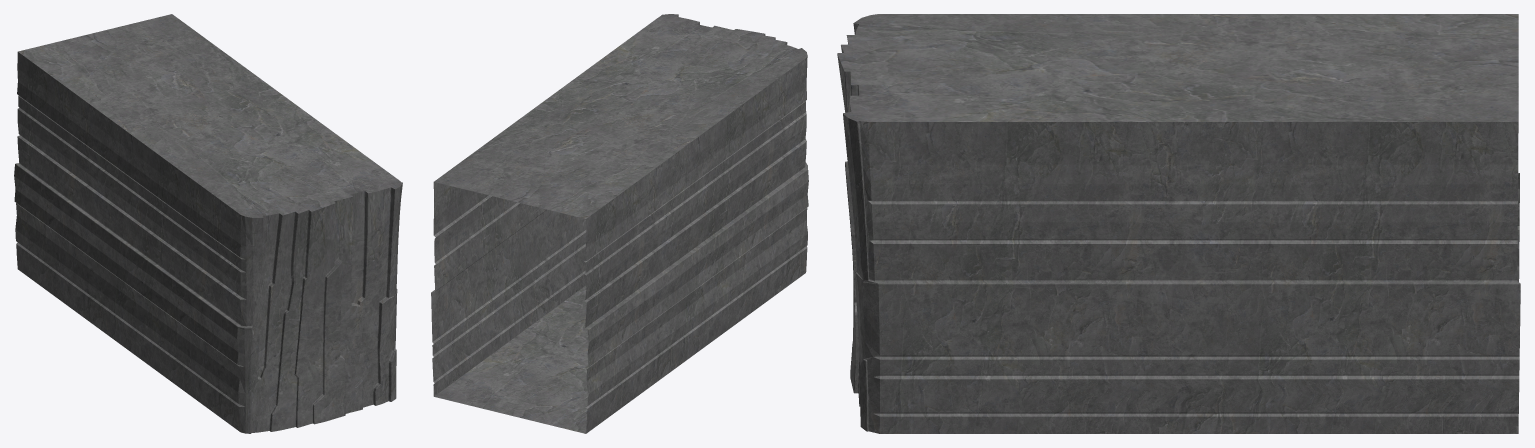
File: TrapWall.fbx
3 renders of one model, left to right at view 1: azimuth 30°, elevation 25°; view 2: azimuth 150°, elevation 25°; view 3: azimuth 270°, elevation 25°, orthographic. The views are drawn at different scales.
Visible parts, largest first — view 1: SM_ENV_NATURE_Cave_Wall_Trap_01.mo; view 2: SM_ENV_NATURE_Cave_Wall_Trap_01.mo; view 3: SM_ENV_NATURE_Cave_Wall_Trap_01.mo.
Boxes of the visible parts, x1=… form: SM_ENV_NATURE_Cave_Wall_Trap_01.mo: x1=14, y1=14, x2=402, y2=433; SM_ENV_NATURE_Cave_Wall_Trap_01.mo: x1=431, y1=14, x2=808, y2=433; SM_ENV_NATURE_Cave_Wall_Trap_01.mo: x1=837, y1=14, x2=1520, y2=433.
Size of the model in its own units: 623 by 814 by 1612.
2 materials, 2 textured.
